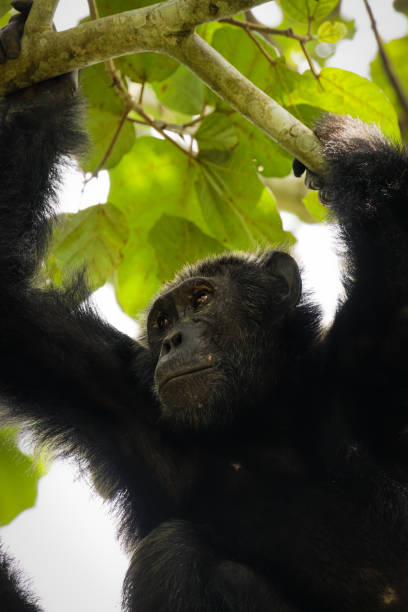chimpanzee: (116, 229, 317, 465)
